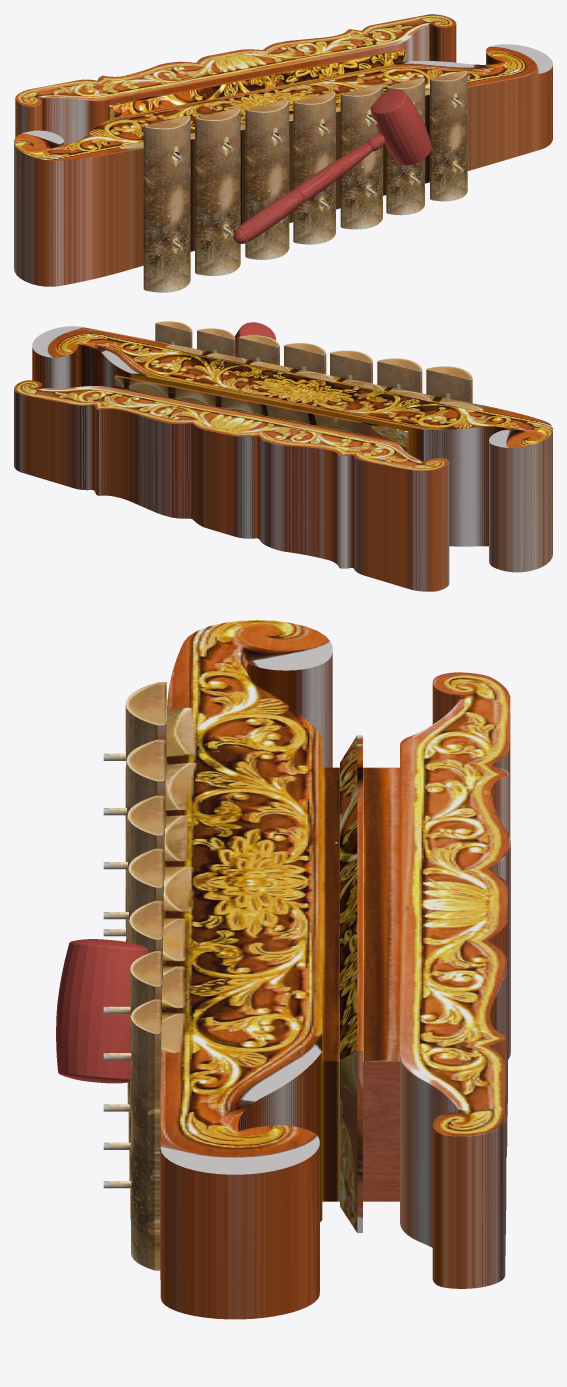
The model's file is demung.glb.
3 renders of one model, top to bottom at view 1: azimuth 30°, elevation 25°; view 2: azimuth 150°, elevation 25°; view 3: azimuth 270°, elevation 25°, orthographic. The views are drawn at different scales.
Visible parts, largest first — view 1: G-Object.024, G-Object.023, G-Object.006, G-Object.002, G-Object.003, G-Object.005, G-Object.004, G-Object.001, G-Object.026, _G-Object.025 (Loose Mesh), G-Object.007; view 2: G-Object.023, G-Object.024, G-Object.006, G-Object.002, G-Object.003, G-Object.005, G-Object.004, G-Object.007, G-Object.001, _G-Object.025 (Loose Mesh); view 3: G-Object.024, G-Object.023, _G-Object.025 (Loose Mesh), G-Object.001, G-Object.006, G-Object.002, G-Object.003, G-Object.005, G-Object.007, G-Object.004.
Part boxes in pixels (<box>): G-Object.024: <box>14,44,552,286</box>; G-Object.023: <box>15,14,456,144</box>; G-Object.006: <box>143,115,190,292</box>; G-Object.002: <box>195,107,240,275</box>; G-Object.003: <box>245,99,289,259</box>; G-Object.005: <box>293,92,335,244</box>; G-Object.004: <box>340,84,382,229</box>; G-Object.001: <box>430,70,467,201</box>; G-Object.026: <box>233,134,385,243</box>; _G-Object.025 (Loose Mesh): <box>370,89,431,165</box>; G-Object.007: <box>386,77,424,215</box>; G-Object.023: <box>14,375,449,591</box>; G-Object.024: <box>32,326,552,572</box>; G-Object.006: <box>426,366,472,403</box>; G-Object.002: <box>377,358,422,393</box>; G-Object.003: <box>330,350,372,383</box>; G-Object.005: <box>284,343,326,374</box>; G-Object.004: <box>238,335,279,365</box>; G-Object.007: <box>197,328,235,356</box>; G-Object.001: <box>155,321,192,347</box>; _G-Object.025 (Loose Mesh): <box>234,322,275,356</box>; G-Object.024: <box>160,620,332,1319</box>; G-Object.023: <box>322,672,510,1288</box>; _G-Object.025 (Loose Mesh): <box>56,939,148,1083</box>; G-Object.001: <box>131,999,161,1270</box>; G-Object.006: <box>125,682,166,941</box>; G-Object.002: <box>126,739,165,941</box>; G-Object.003: <box>127,795,164,1104</box>; G-Object.005: <box>128,848,163,1142</box>; G-Object.007: <box>130,951,161,1220</box>; G-Object.004: <box>129,900,162,1180</box>.
Size of the model in its own units: 6.75 by 2.14 by 2.59.
Materials: 6 (5 with a texture image).
